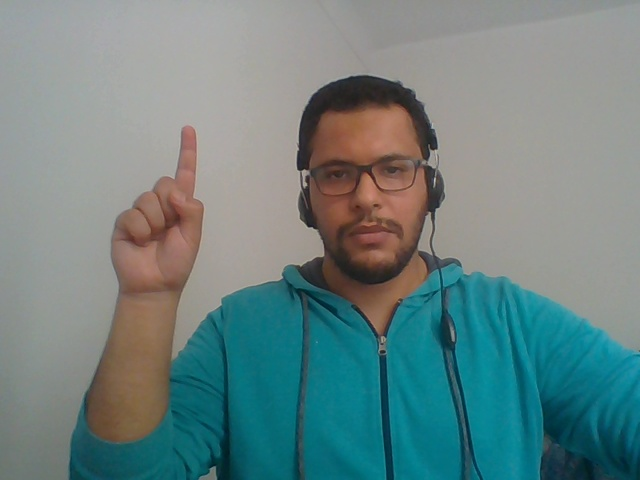handup: (83, 111, 240, 394)
